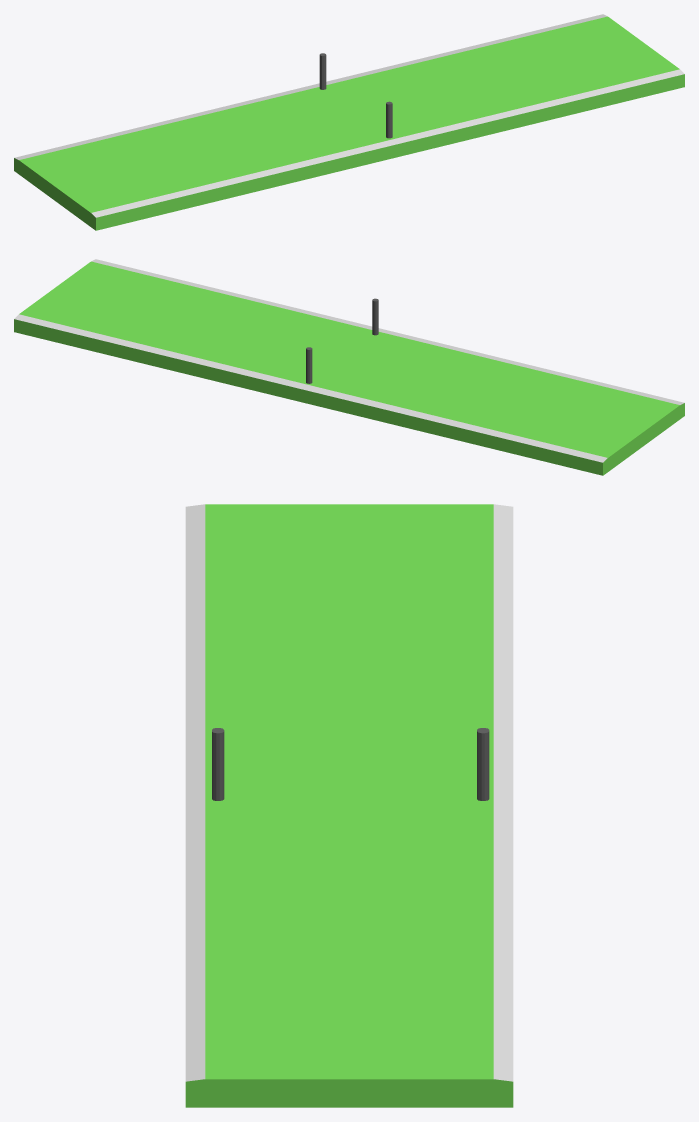
The model's file is ground06.fbx.
3 views of the same model, one above another, from view 1: azimuth 30°, elevation 25°; view 2: azimuth 150°, elevation 25°; view 3: azimuth 270°, elevation 25° (orthographic). The views are drawn at different scales.
Parts seen in each view (by area): view 1: ground06; view 2: ground06; view 3: ground06.
Part boxes in pixels (x1=…): ground06: x1=14, y1=14, x2=684, y2=230; ground06: x1=14, y1=259, x2=684, y2=475; ground06: x1=185, y1=504, x2=513, y2=1107.
Bounding box in the file's own units: 714 × 55.88 × 172.
